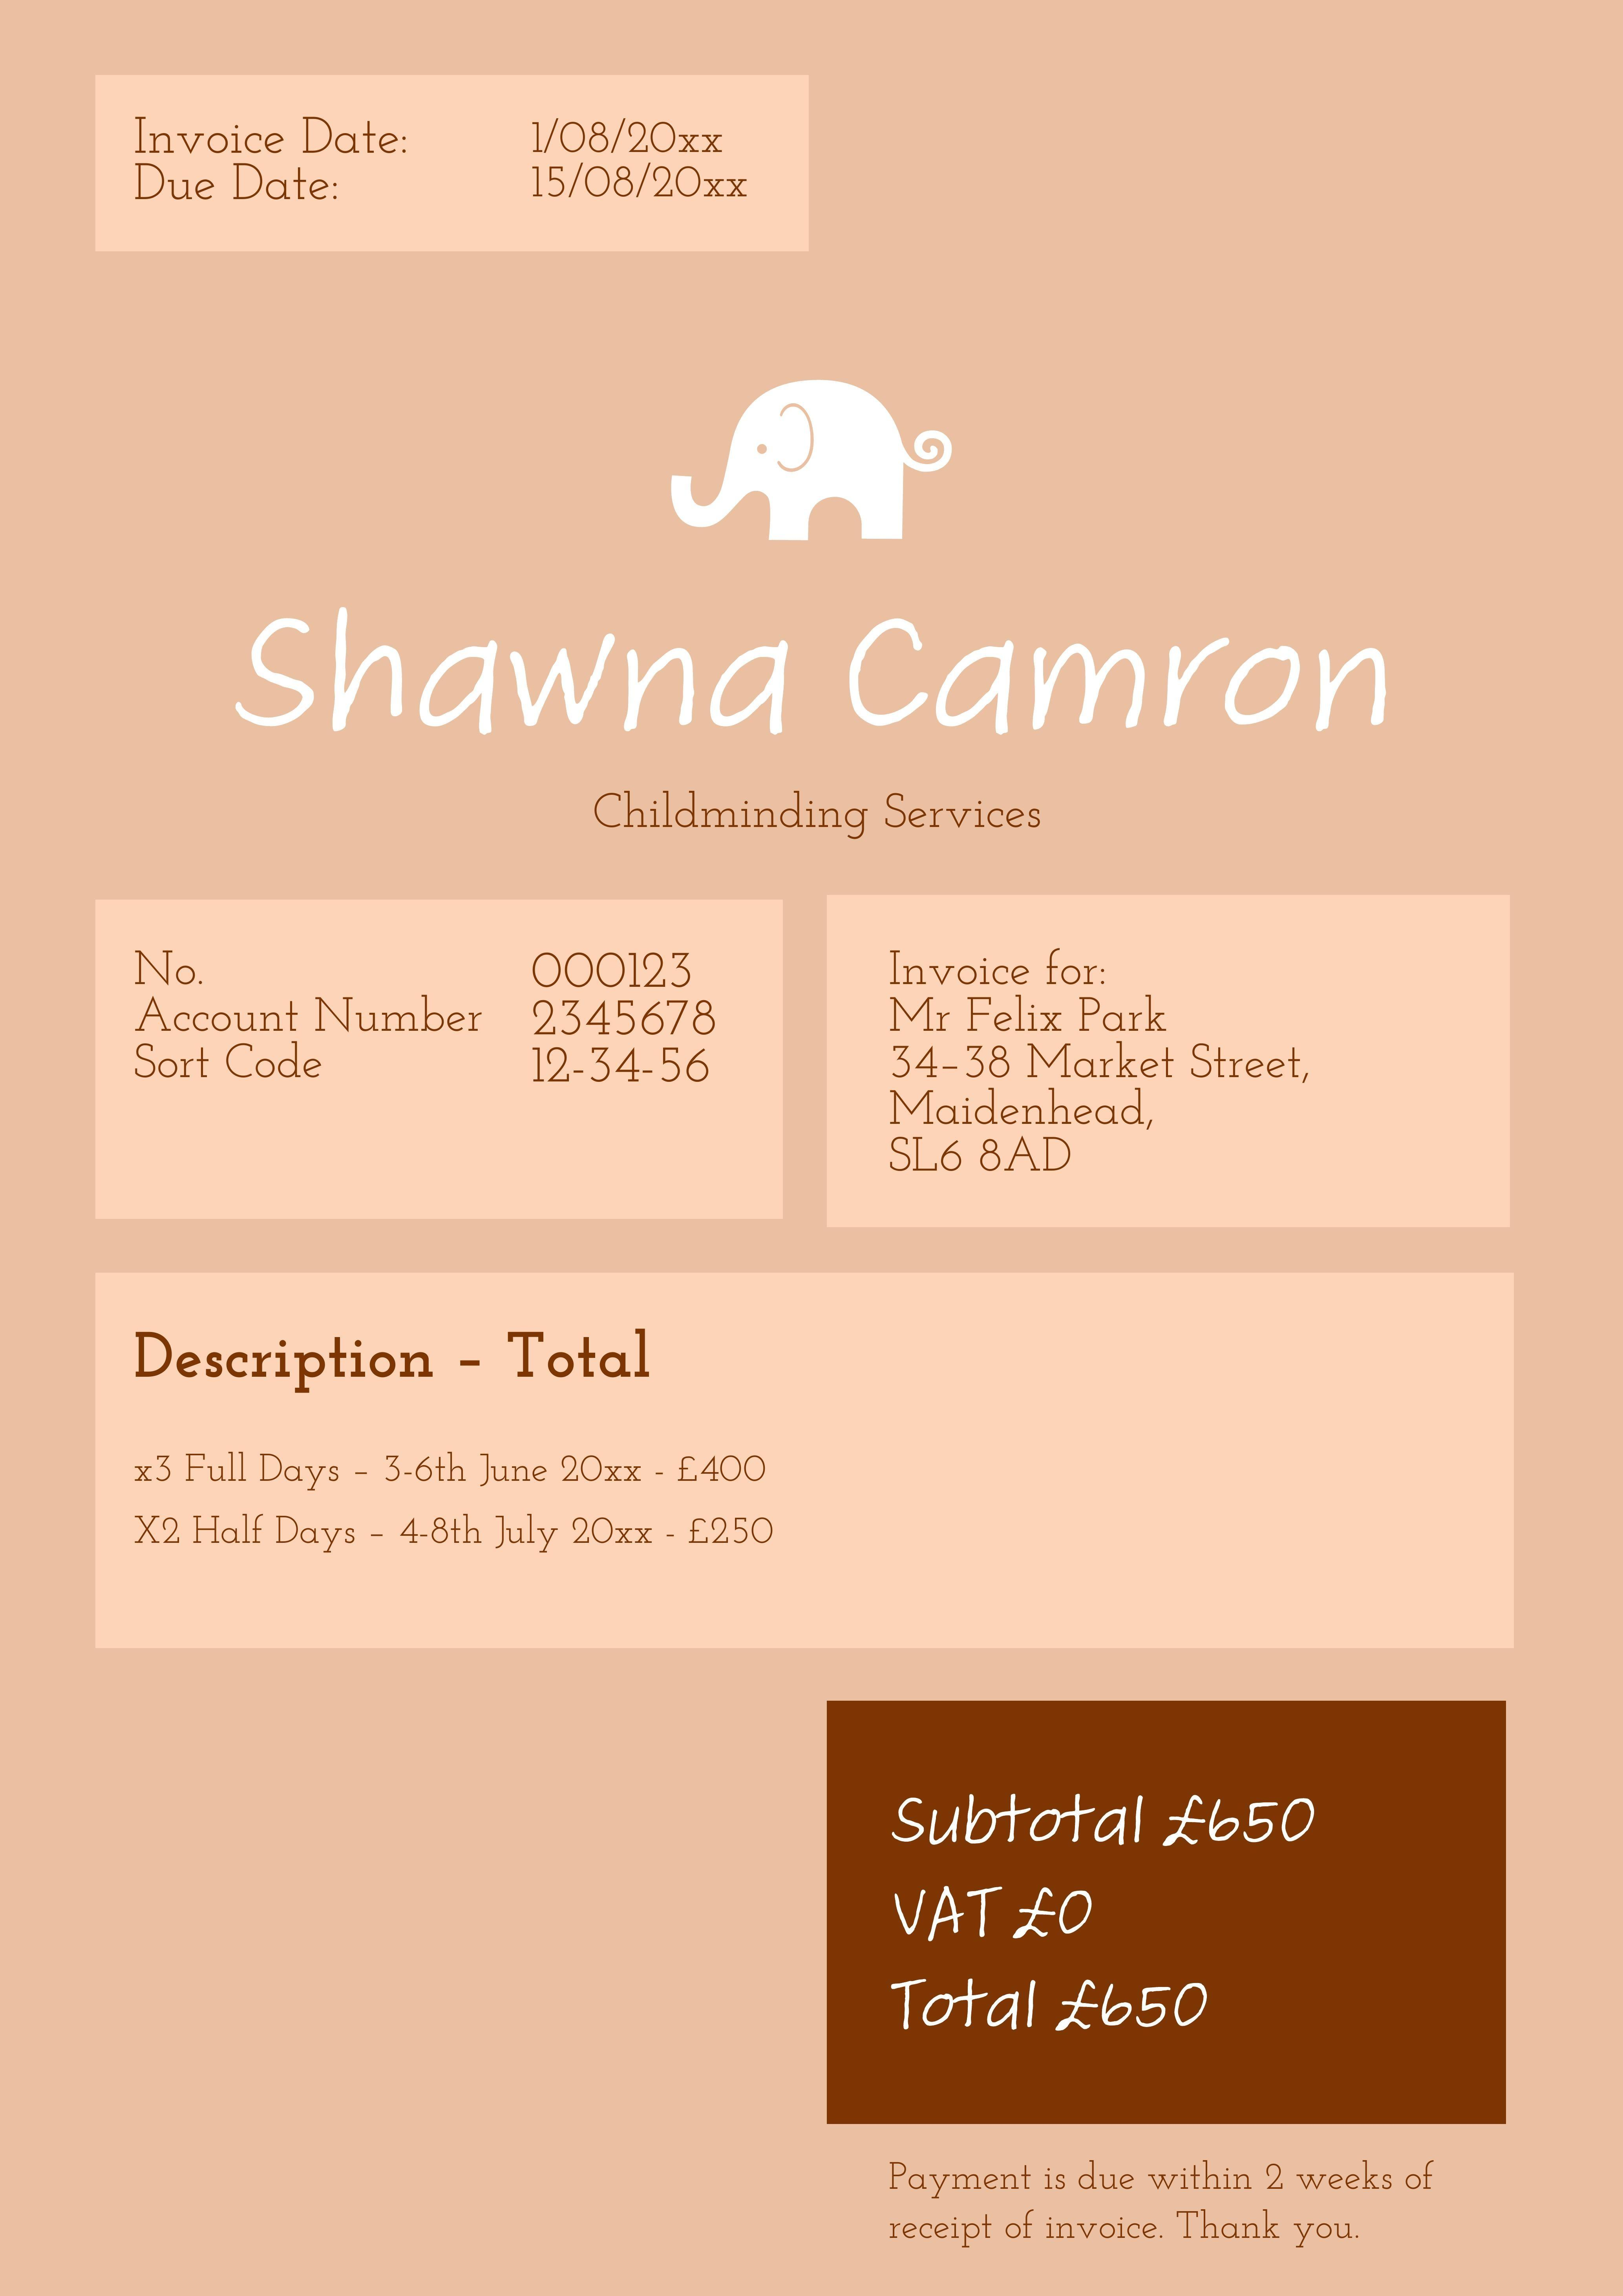ROI: (238, 591, 1411, 869), (107, 1312, 804, 1586), (867, 1761, 1340, 2066), (869, 937, 1336, 1202), (113, 925, 735, 1119), (99, 75, 810, 244), (874, 2151, 1480, 2263)
